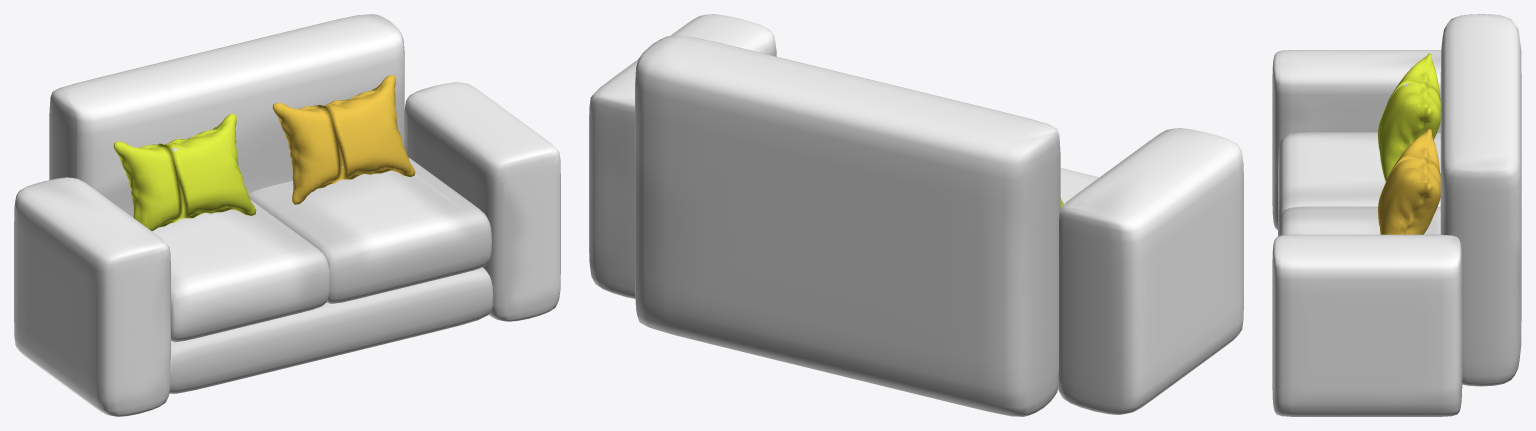
File: Sofa_prefab.fbx
The picture shows the model from 3 angles, left to right: view 1: azimuth 30°, elevation 25°; view 2: azimuth 150°, elevation 25°; view 3: azimuth 270°, elevation 25°; orthographic projection. The views are drawn at different scales.
Visible parts, largest first — view 1: Cube.005, Plane.001, Plane; view 2: Cube.005; view 3: Cube.005, Plane.001, Plane.
Boxes of the visible parts, x1,y1,x2,y2 form: Cube.005: (14, 14, 560, 416); Plane.001: (272, 75, 415, 204); Plane: (113, 114, 256, 230); Cube.005: (589, 14, 1243, 416); Cube.005: (1272, 14, 1521, 416); Plane.001: (1377, 128, 1440, 234); Plane: (1378, 53, 1440, 181).
Size of the model in its own units: 575 by 276 by 276.
2 materials, 2 textured.
